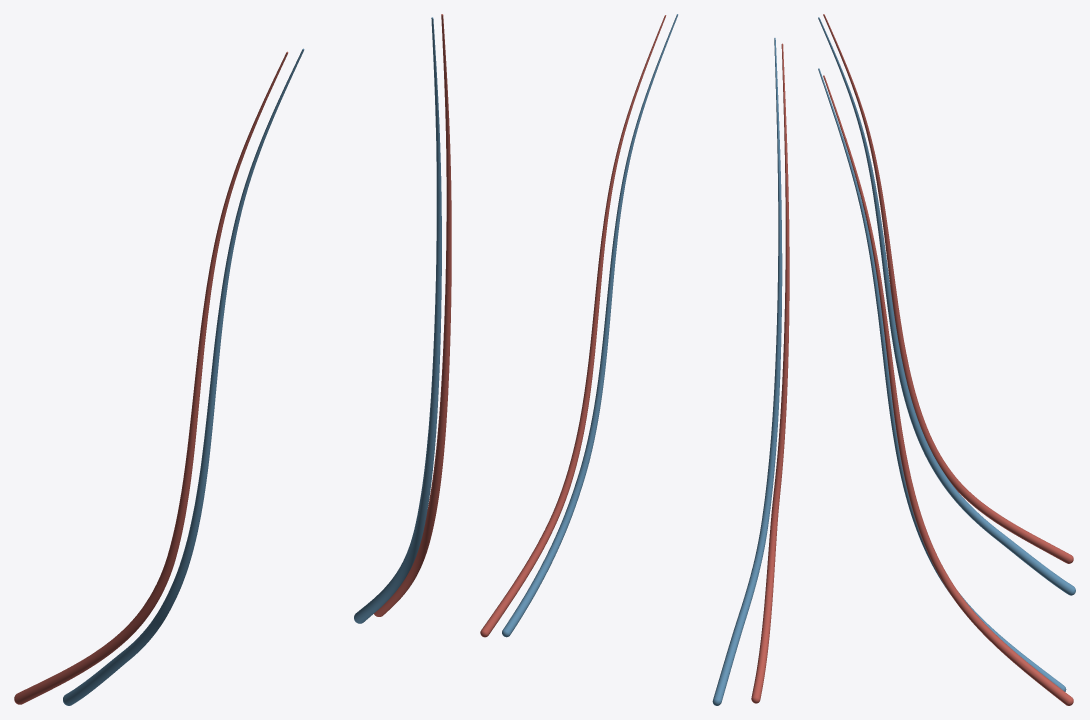
Rendered from inferior-epigastric-vessels.glb.
3 renders of one model, left to right at view 1: azimuth 30°, elevation 25°; view 2: azimuth 150°, elevation 25°; view 3: azimuth 270°, elevation 25°, orthographic. The views are drawn at different scales.
Parts seen in each view (by area): view 1: FMA20688, FMA21163, FMA21164, FMA20689; view 2: FMA21163, FMA20688, FMA20689, FMA21164; view 3: FMA20689, FMA21163, FMA20688, FMA21164.
Part boxes in pixels (x1,y1,x2,y2): FMA20688: [14, 51, 288, 704]; FMA21163: [63, 48, 304, 705]; FMA21164: [354, 17, 441, 623]; FMA20689: [374, 14, 451, 616]; FMA21163: [712, 38, 782, 705]; FMA20688: [751, 43, 789, 703]; FMA20689: [480, 15, 666, 637]; FMA21164: [502, 14, 678, 637]; FMA20689: [823, 75, 1073, 705]; FMA21163: [818, 17, 1075, 595]; FMA20688: [823, 14, 1073, 563]; FMA21164: [818, 68, 1066, 691].
Bounding box in the file's own units: 1.05 × 2.04 × 0.7842.
